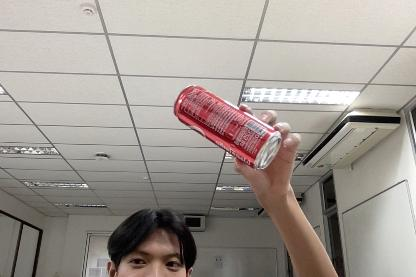Can: (166, 80, 284, 172)
